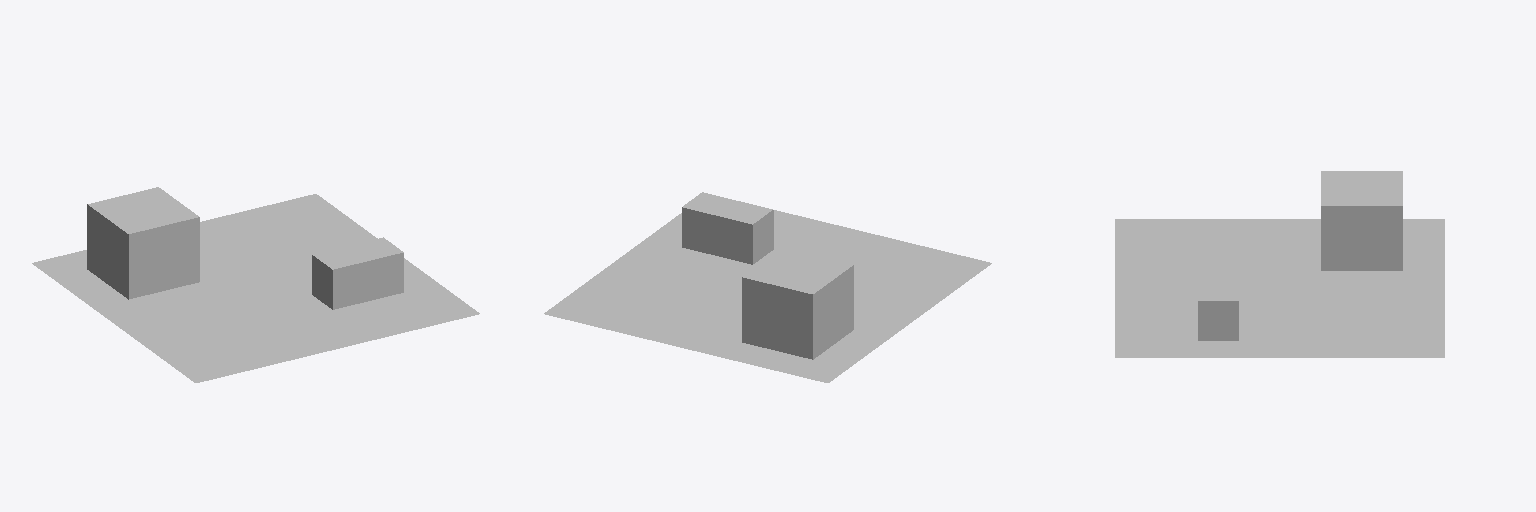
File: road_main.obj
The picture shows the model from 3 angles: view 1: azimuth 30°, elevation 25°; view 2: azimuth 150°, elevation 25°; view 3: azimuth 270°, elevation 25°; orthographic projection.
Visible parts, largest first — view 1: Plane; view 2: Plane; view 3: Plane.
Boxes of the visible parts, <box> form: Plane: <box>32,187,479,382</box>; Plane: <box>544,192,991,382</box>; Plane: <box>1115,171,1444,357</box>.
Size of the model in its own units: 1.6 by 0.3498 by 1.6.